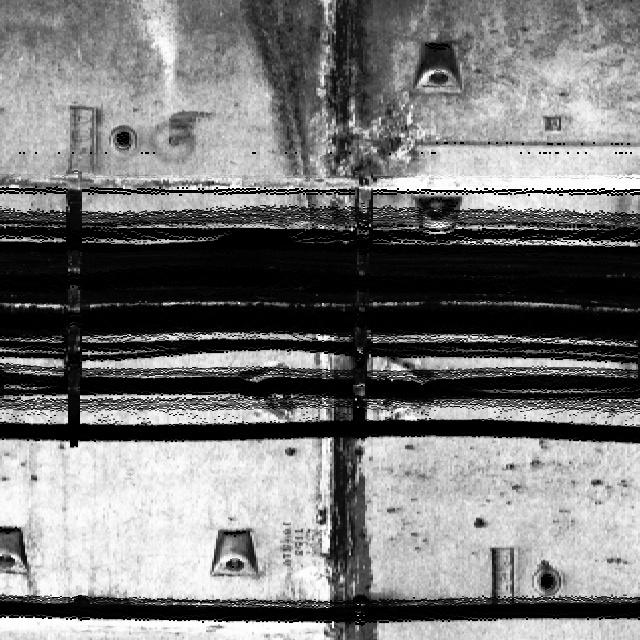leakage: (234, 0, 420, 213), (303, 332, 385, 639)
